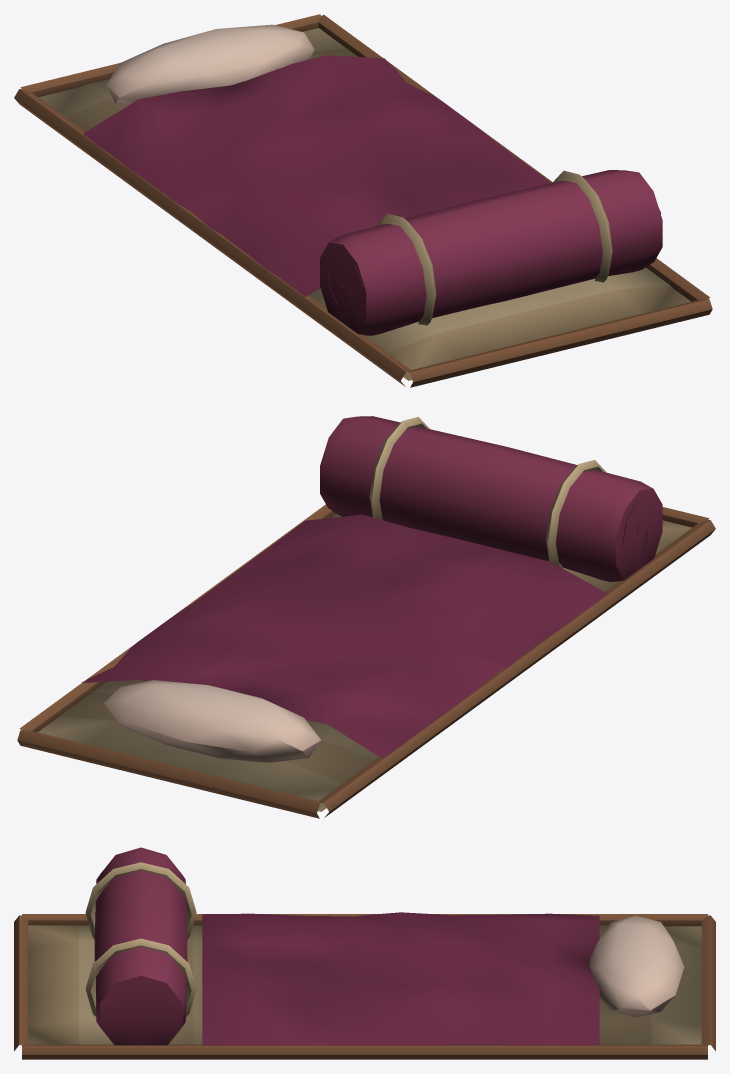
The model's file is ruins-bedroll.glb.
3 views of the same model, one above another, from view 1: azimuth 30°, elevation 25°; view 2: azimuth 150°, elevation 25°; view 3: azimuth 270°, elevation 25° (orthographic). The views are drawn at different scales.
Visible parts, largest first — view 1: 0_ruins_bedroll; view 2: 0_ruins_bedroll; view 3: 0_ruins_bedroll.
Part boxes in pixels (x1=…): 0_ruins_bedroll: x1=14, y1=14, x2=712, y2=387; 0_ruins_bedroll: x1=17, y1=416, x2=715, y2=818; 0_ruins_bedroll: x1=14, y1=847, x2=715, y2=1059.
Size of the model in its own units: 0.894 by 0.308 by 1.94.
